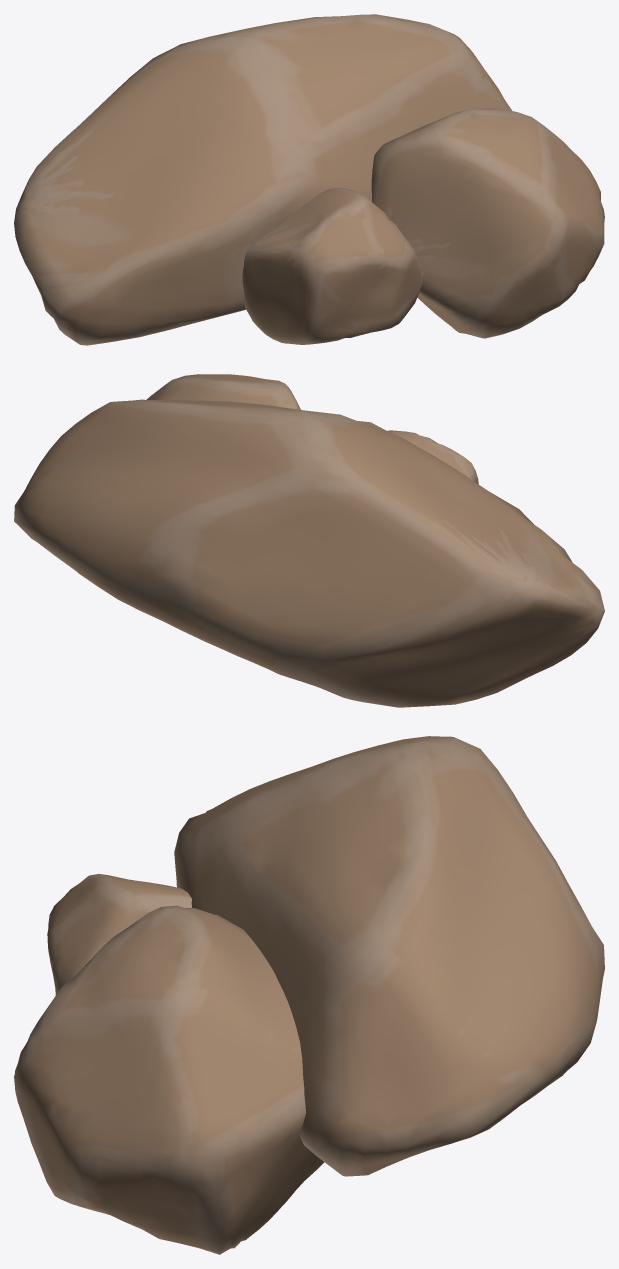
Rendered from Stone3.fbx.
3 renders of one model, top to bottom at view 1: azimuth 30°, elevation 25°; view 2: azimuth 150°, elevation 25°; view 3: azimuth 270°, elevation 25°, orthographic. The views are drawn at different scales.
Parts seen in each view (by area): view 1: Stone3; view 2: Stone3; view 3: Stone3.
Boxes of the visible parts, box(x1,y1,x2,y2) form: Stone3: box(14, 14, 604, 345); Stone3: box(14, 374, 604, 707); Stone3: box(14, 736, 604, 1254).
Size of the model in its own units: 120 by 59.77 by 83.96.
